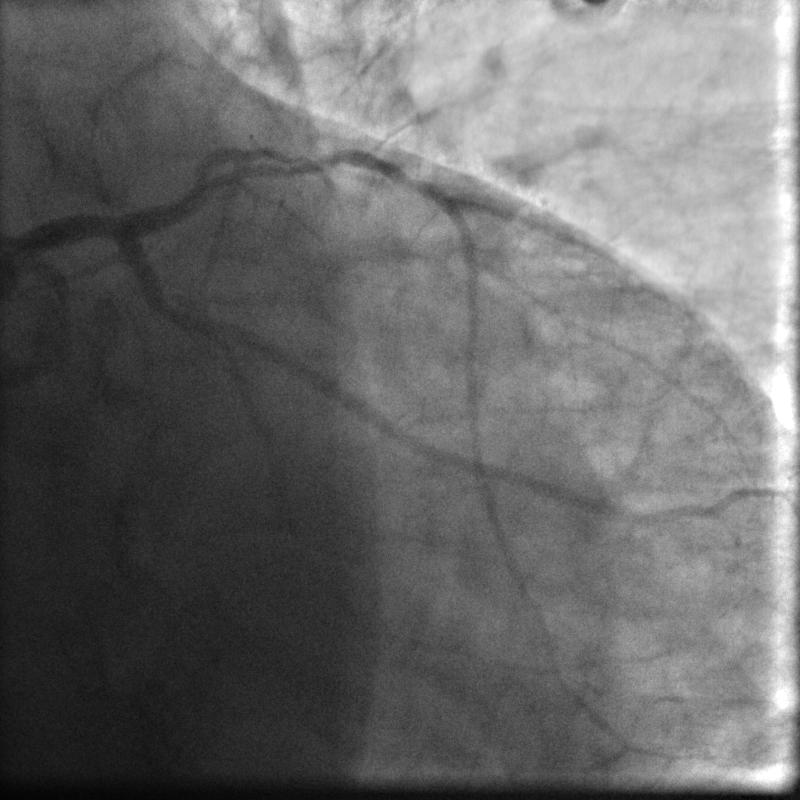Stenosis: (272, 145, 377, 173)
